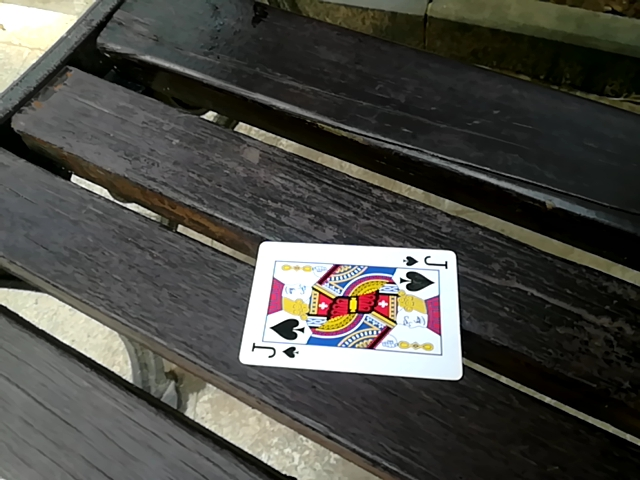ht j: (232, 242, 450, 377)
